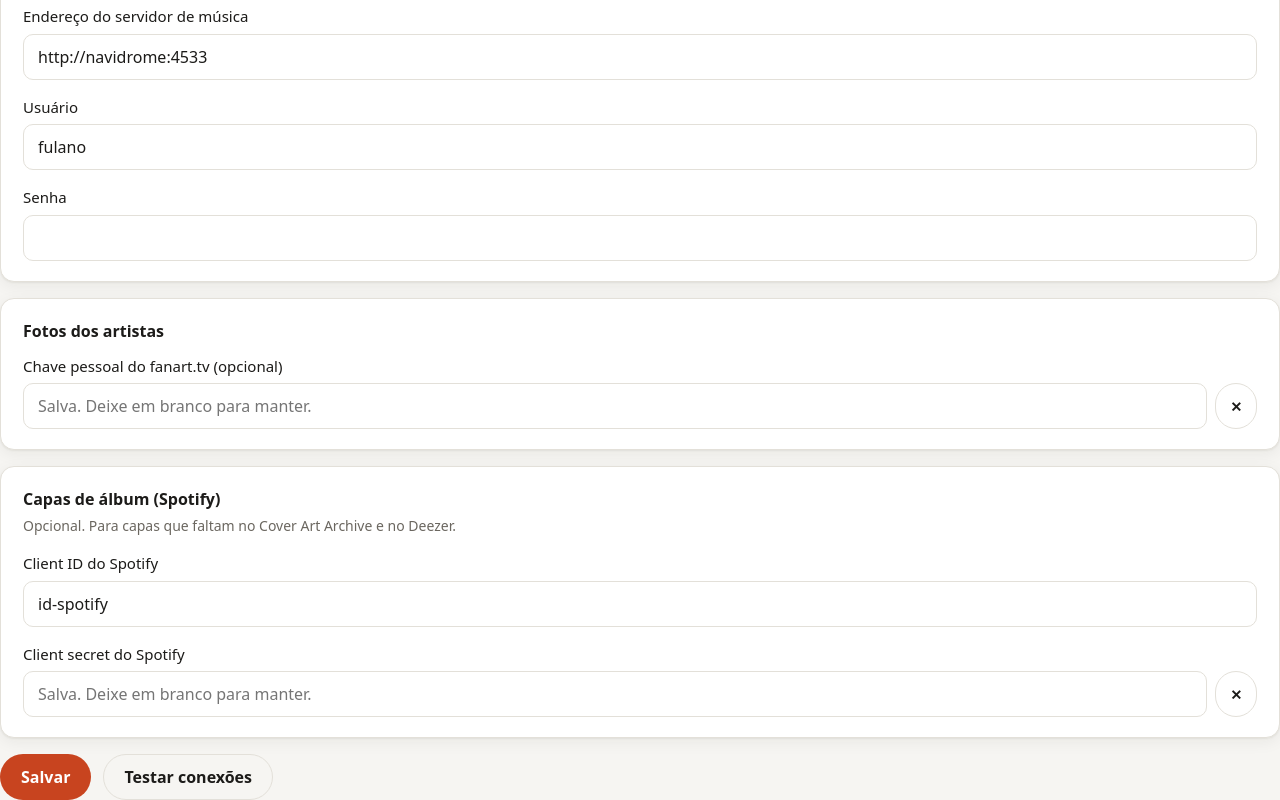
ServerSettingsForm › diz quando uma conexão não está configurada
(page scrolled)
Click the button "Testar conexões" at (188, 777), box [103, 754, 273, 799]
(page scrolled)
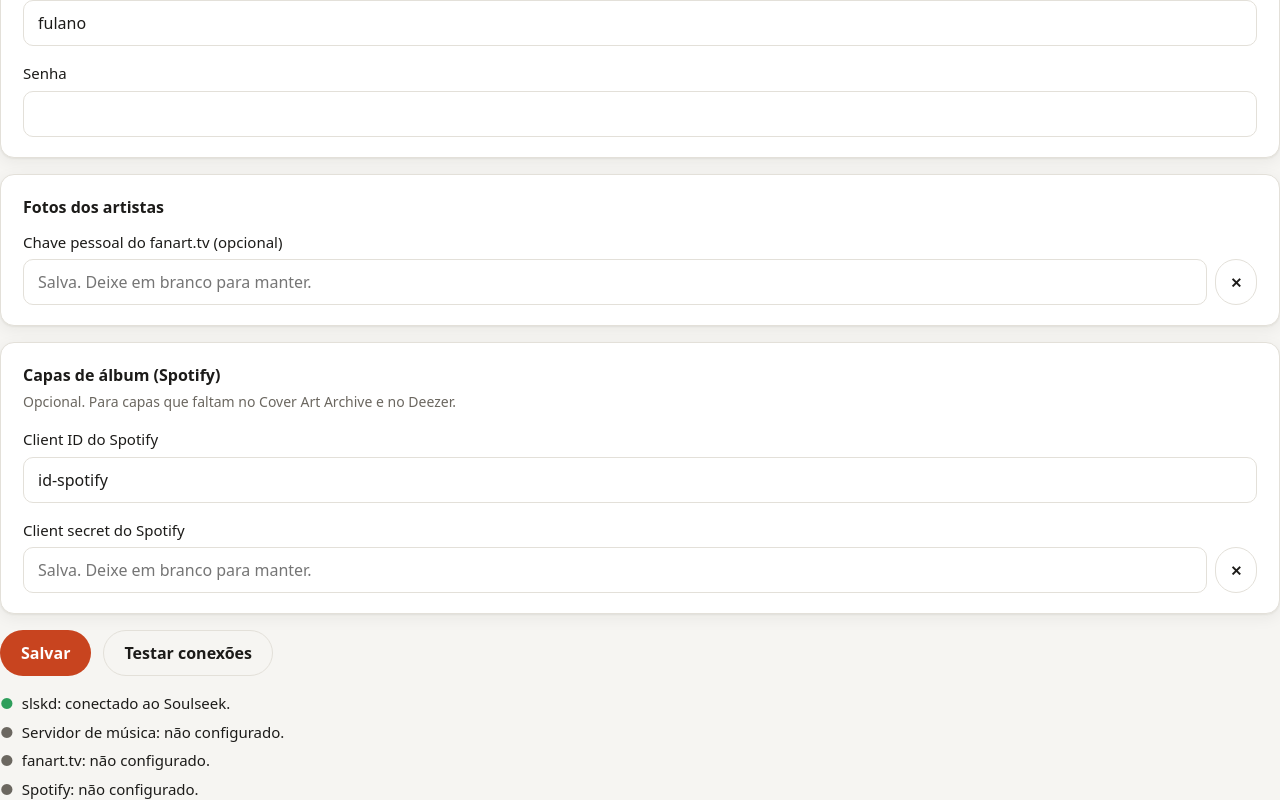
Expected: the list item "Servidor de música: não configurado." is shown, [22, 722, 284, 742]
Expected: the list item "fanart.tv: não configurado." is shown, [22, 750, 210, 770]
Expected: the list item "Spotify: não configurado." is shown, [22, 779, 199, 799]
